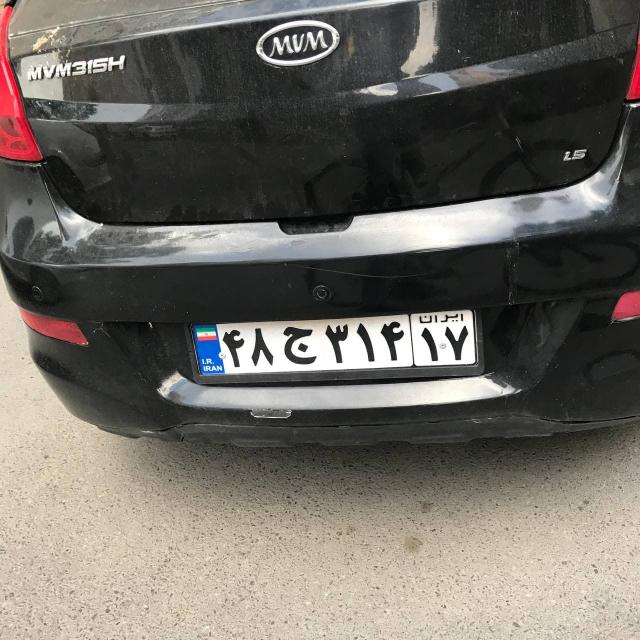Plates: (190, 310, 478, 376)
